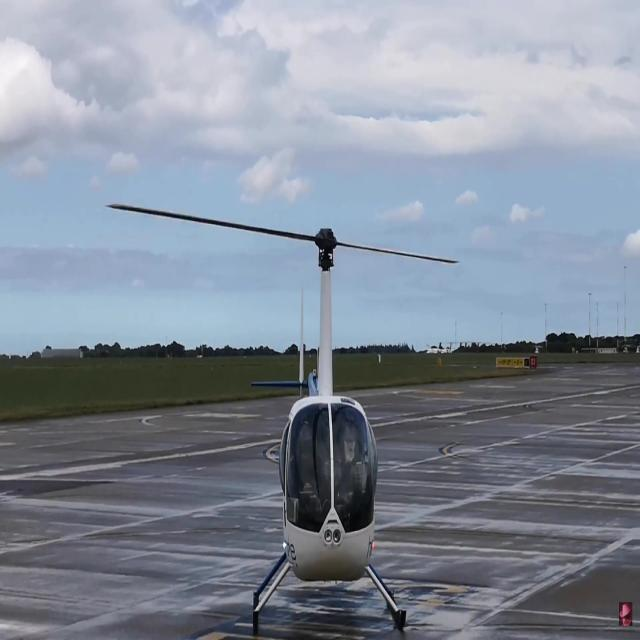CIV_HELO: (252, 225, 408, 635)
